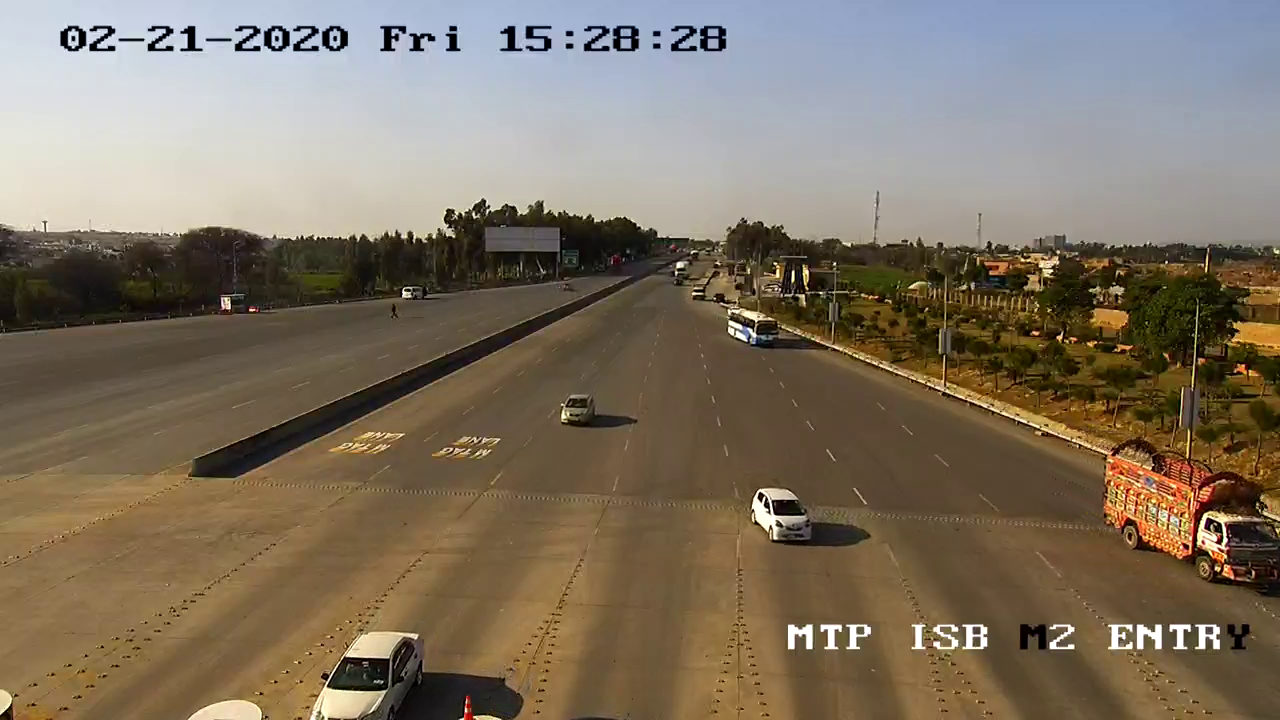f1: (735, 466, 819, 560), (551, 377, 605, 440)
f4: (715, 295, 794, 357)
f5: (1098, 439, 1280, 606)
